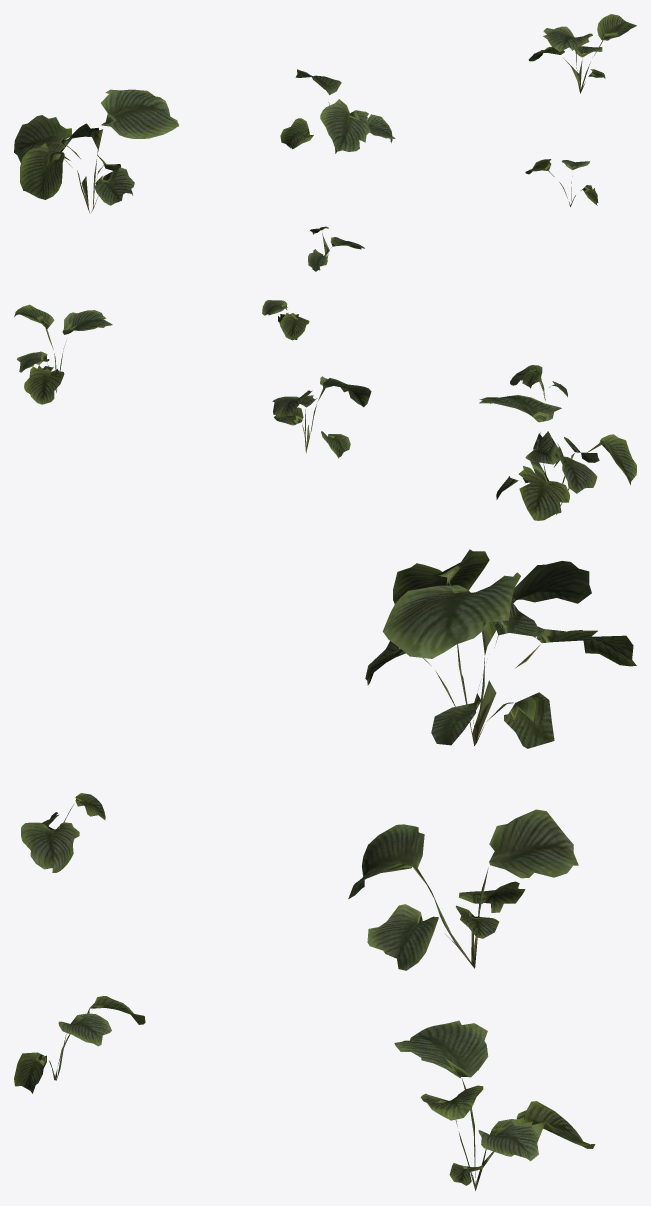
Rendered from calathea_orbifolia_01_lod2.glb.
3 views of the same model, one above another, from view 1: azimuth 30°, elevation 25°; view 2: azimuth 150°, elevation 25°; view 3: azimuth 270°, elevation 25° (orthographic). The views are drawn at different scales.
Visible parts, largest first — view 1: calathea_orbifolia_01_a, calathea_orbifolia_01_b, calathea_orbifolia_01_c, calathea_orbifolia_01_d, calathea_orbifolia_01_e; view 2: calathea_orbifolia_01_a, calathea_orbifolia_01_c, calathea_orbifolia_01_b, calathea_orbifolia_01_e, calathea_orbifolia_01_d; view 3: calathea_orbifolia_01_a, calathea_orbifolia_01_b, calathea_orbifolia_01_c, calathea_orbifolia_01_e, calathea_orbifolia_01_d.
Part boxes in pixels (bbox=[...]): calathea_orbifolia_01_a: bbox=[14, 89, 178, 213]; calathea_orbifolia_01_b: bbox=[280, 69, 395, 153]; calathea_orbifolia_01_c: bbox=[528, 14, 636, 93]; calathea_orbifolia_01_d: bbox=[308, 226, 364, 271]; calathea_orbifolia_01_e: bbox=[525, 159, 598, 206]; calathea_orbifolia_01_a: bbox=[479, 395, 636, 520]; calathea_orbifolia_01_c: bbox=[14, 304, 112, 404]; calathea_orbifolia_01_b: bbox=[272, 376, 371, 458]; calathea_orbifolia_01_e: bbox=[262, 300, 309, 340]; calathea_orbifolia_01_d: bbox=[510, 365, 567, 400]; calathea_orbifolia_01_a: bbox=[365, 549, 636, 748]; calathea_orbifolia_01_b: bbox=[348, 809, 578, 970]; calathea_orbifolia_01_c: bbox=[394, 1020, 595, 1190]; calathea_orbifolia_01_e: bbox=[14, 996, 145, 1093]; calathea_orbifolia_01_d: bbox=[21, 793, 105, 872].
Size of the model in its own units: 2.49 by 0.4204 by 1.18.
1 material, 1 textured.
